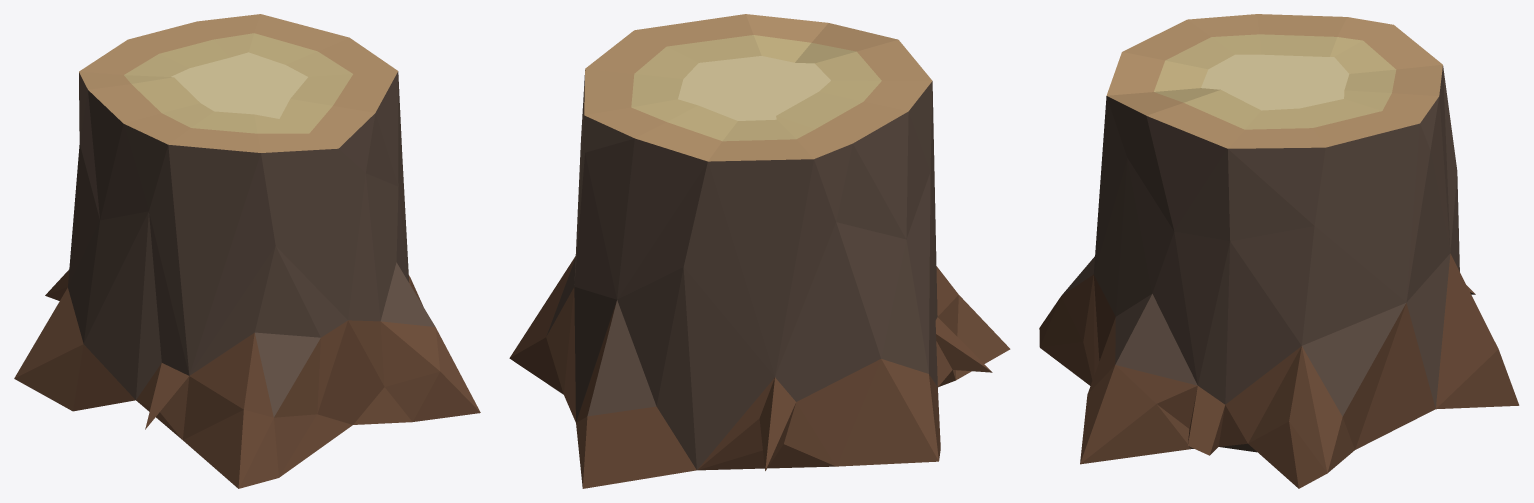
File: tree.stump.glb
The picture shows the model from 3 angles, left to right: view 1: azimuth 30°, elevation 25°; view 2: azimuth 150°, elevation 25°; view 3: azimuth 270°, elevation 25°; orthographic projection. The views are drawn at different scales.
Visible parts, largest first — view 1: stump; view 2: stump; view 3: stump.
Boxes of the visible parts, box(x1,y1,x2,y2) form: stump: box(14, 14, 480, 488); stump: box(509, 14, 1010, 488); stump: box(1039, 14, 1519, 488).
Size of the model in its own units: 0.7 by 0.5003 by 0.7.
Materials: 1 (1 with a texture image).
